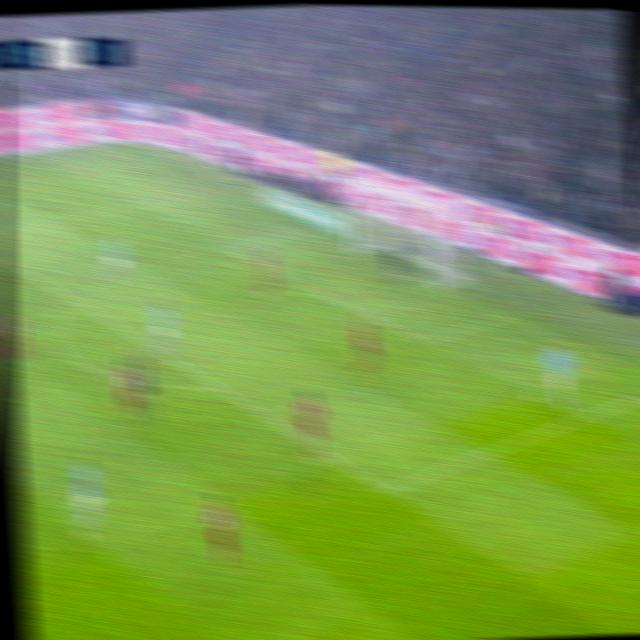bigarea_bottom_inner: (374, 480, 395, 500)
bigarea_top_outter: (198, 182, 216, 194)
corner: (96, 142, 114, 151)
smallarea_bottom_inner: (411, 330, 433, 350)
smallarea_bottom_outter: (493, 306, 513, 322)
smallarea_top_inner: (218, 240, 239, 257)
smallarea_top_outter: (291, 224, 308, 236)
top_arc_area_intersection: (61, 291, 81, 307)
